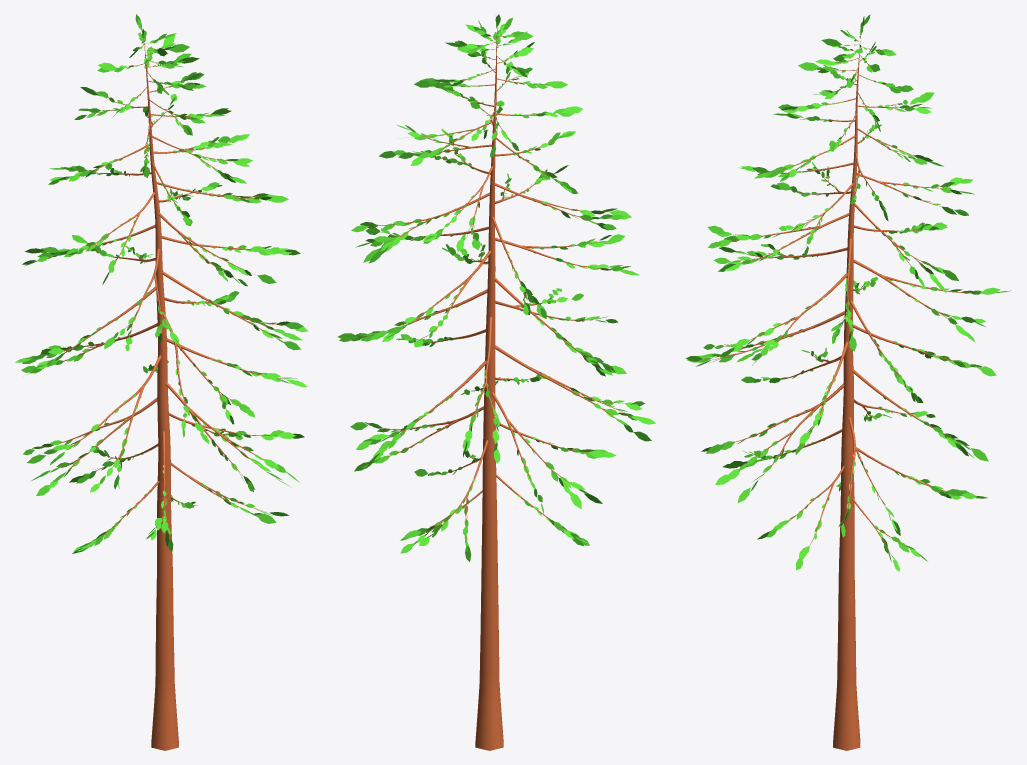
File: PineTree.glb
3 views of the same model, side by side, from view 1: azimuth 30°, elevation 25°; view 2: azimuth 150°, elevation 25°; view 3: azimuth 270°, elevation 25° (orthographic). The views are drawn at different scales.
Parts seen in each view (by area): view 1: tree; view 2: tree; view 3: tree.
Part boxes in pixels (x1,y1,x2,y2): tree: (15,14,308,750); tree: (337,14,655,750); tree: (685,14,1011,750).
Size of the model in its own units: 12.99 by 31.43 by 12.9.
